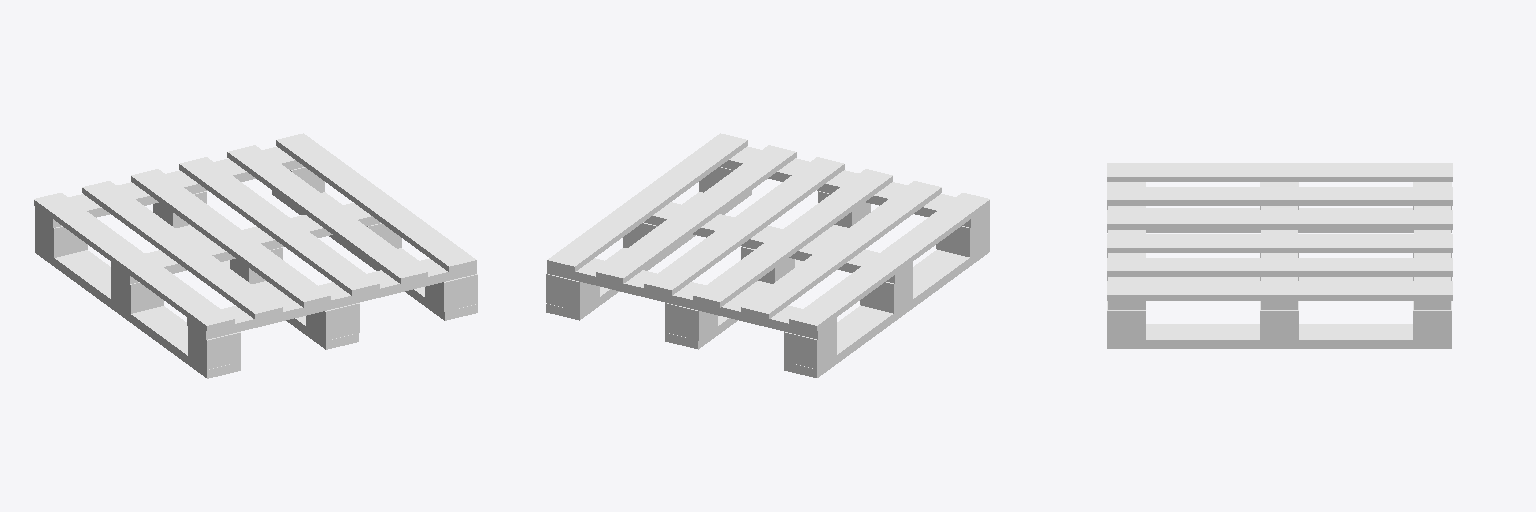
File: poddon.obj
3 views of the same model, side by side, from view 1: azimuth 30°, elevation 25°; view 2: azimuth 150°, elevation 25°; view 3: azimuth 270°, elevation 25° (orthographic).
Parts seen in each view (by area): view 1: Box005; view 2: Box005; view 3: Box005.
Boxes of the visible parts, <box> form: Box005: <box>34,133,477,378</box>; Box005: <box>546,133,989,377</box>; Box005: <box>1107,163,1452,348</box>.
Size of the model in its own units: 140 by 26.2 by 155.